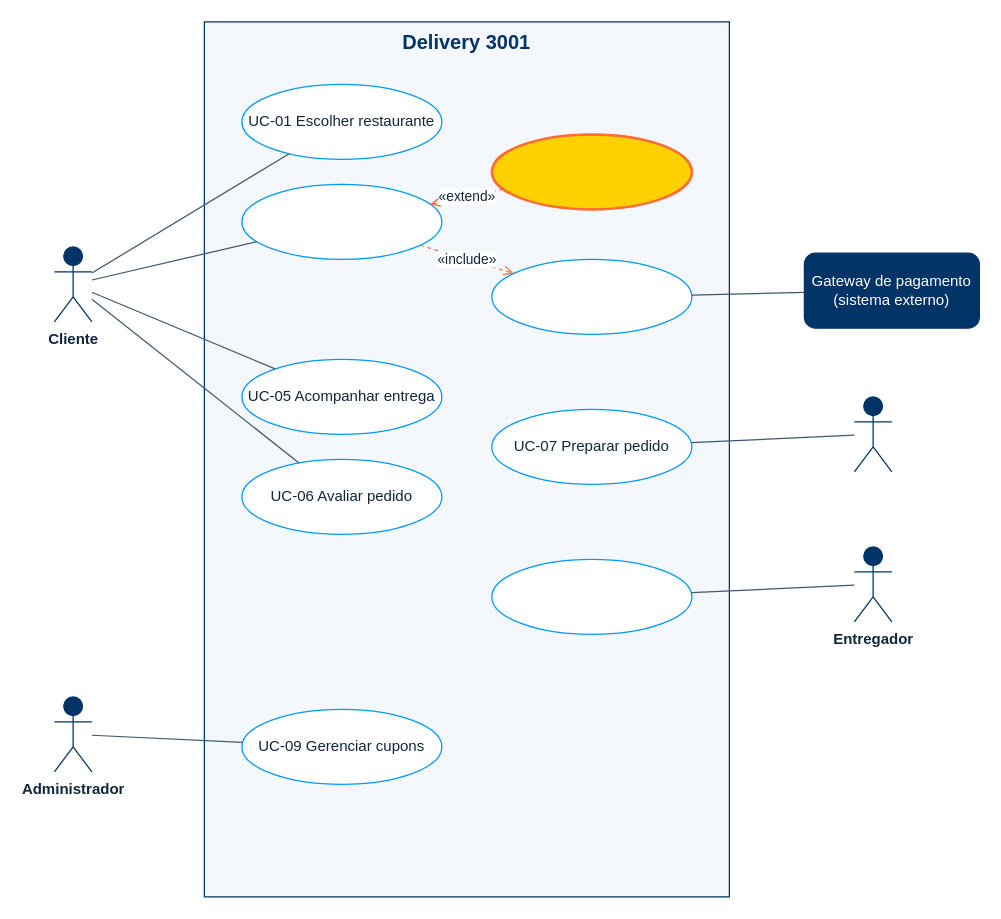
The diagram is 1001 pixels wide and 919 high, and some of its shapes have lost their labels. The shapes that lost their labels are listed below. From the top down, each one's centre as x and y in pixels, then its label:
the point at 591,171: UC-03 Aplicar cupom
the point at 341,221: UC-02 Fazer pedido
the point at 591,296: UC-04 Pagar pedido
the point at 872,434: Restaurante
the point at 591,596: UC-08 Retirar e entregar
